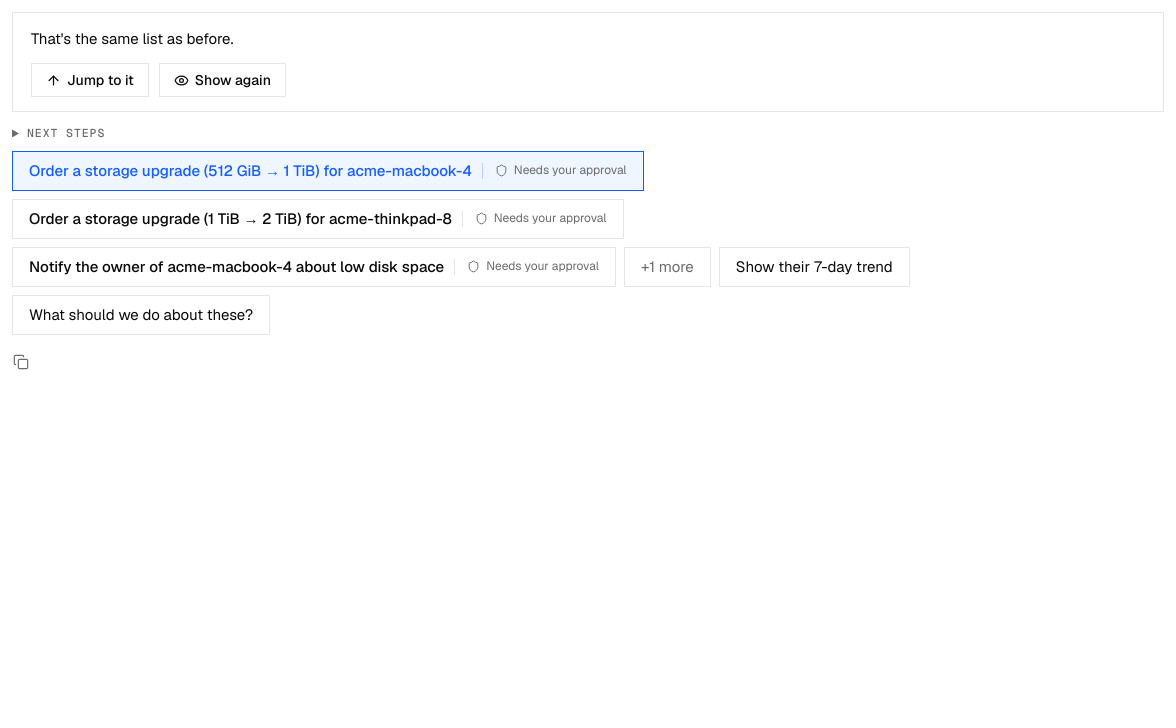
a repeat card with a reply › says the reply instead of the fixed sentence, and keeps both ways on
Check: the text with class "repeat__text" reads "That's the same list as before.", box [31,29,234,48]
Click the button "Jump to it" at [90, 80], box [31,63,149,97]
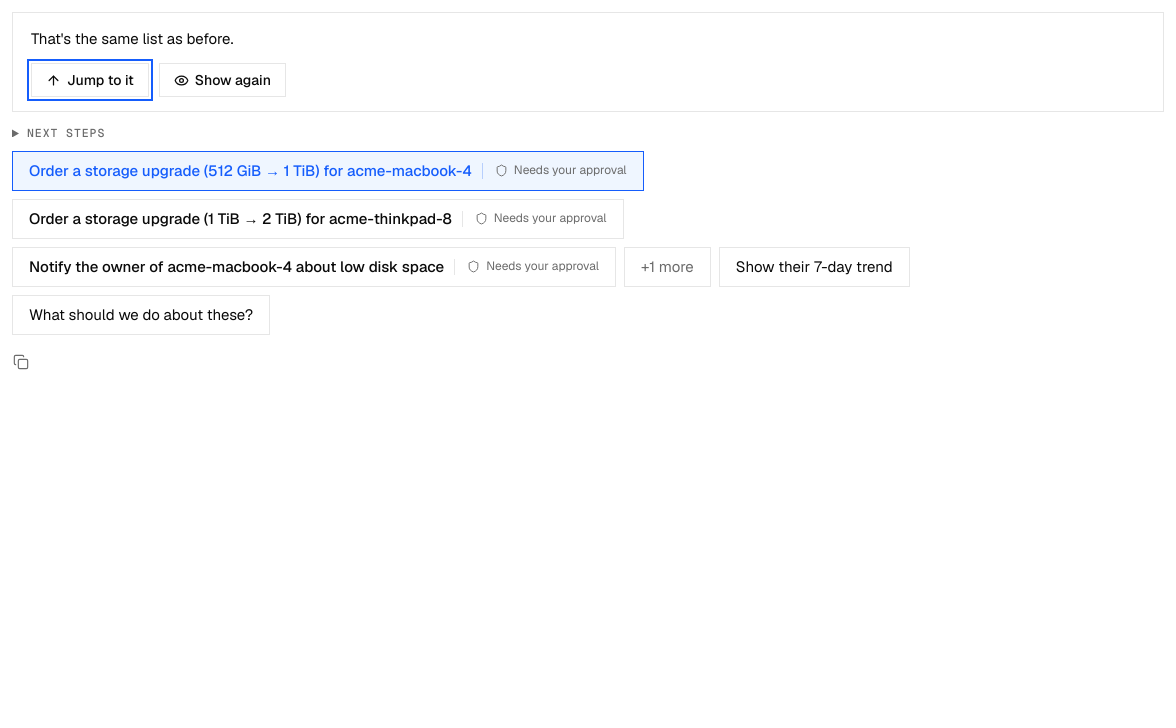
Click the button "Show again" at [222, 80], box [159,63,286,97]
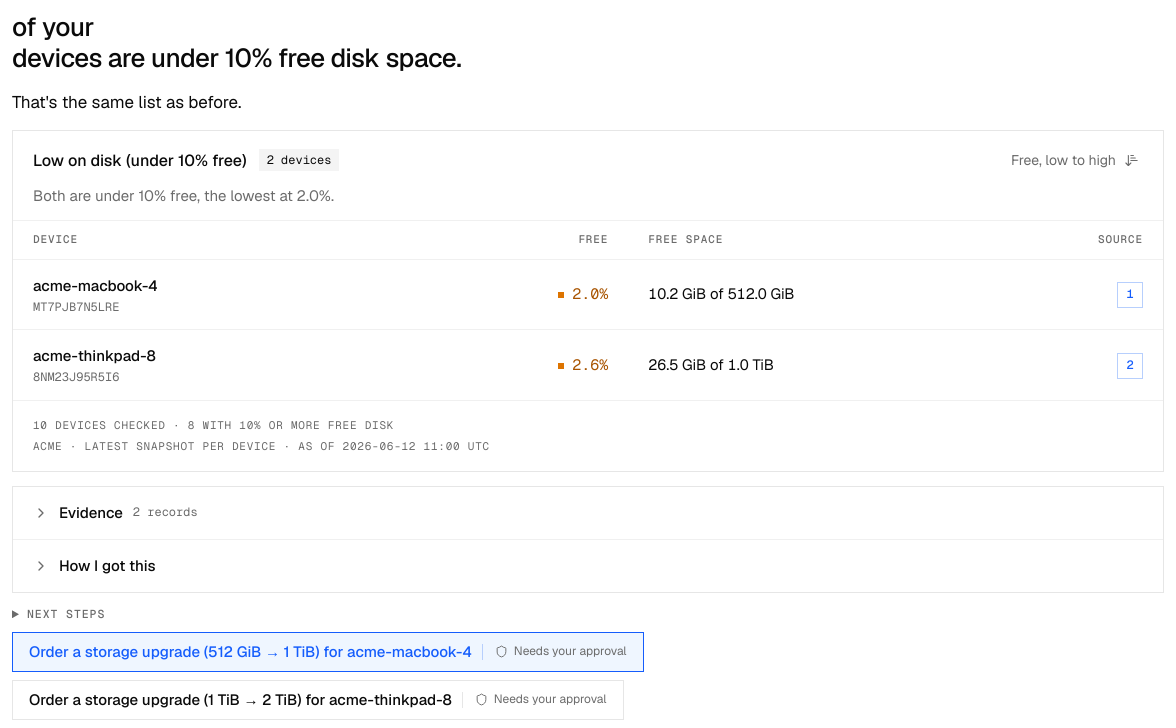
Check: the table is shown, box [13,131,1163,400]
